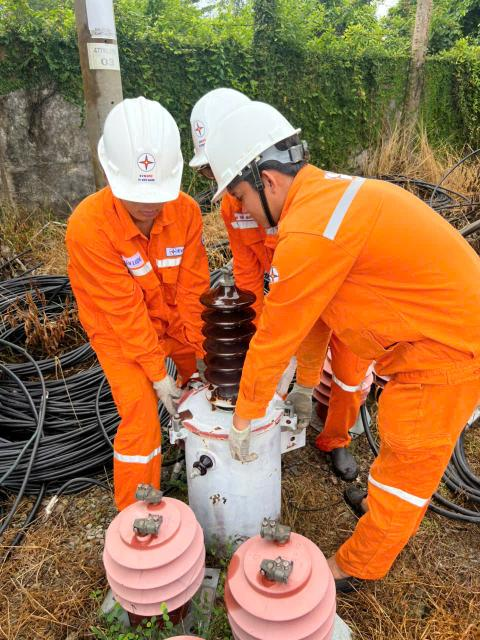gloves: (140, 374, 194, 427), (223, 418, 262, 480), (287, 383, 317, 448)
helmet: (74, 95, 190, 222), (170, 63, 297, 174), (209, 103, 309, 212)
shoes: (288, 555, 388, 600), (335, 492, 408, 522), (327, 429, 362, 480)
